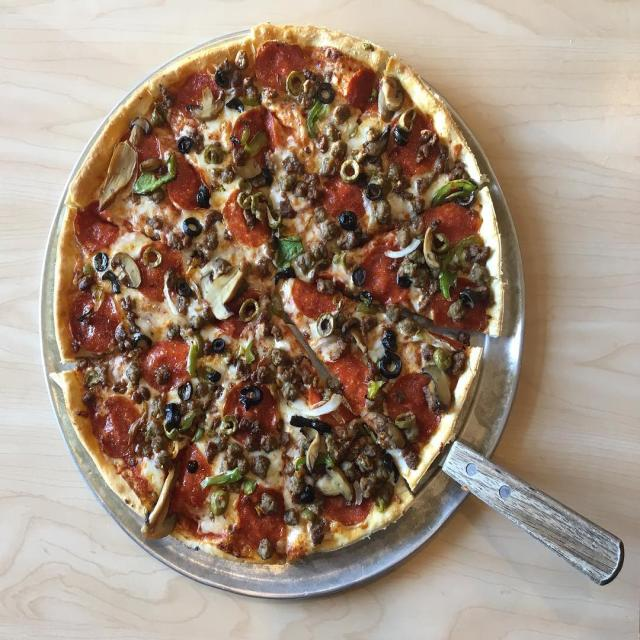black_olives: (456, 284, 480, 317), (316, 78, 342, 106), (174, 376, 201, 402), (376, 349, 403, 375), (396, 268, 416, 300), (183, 213, 204, 243), (291, 479, 316, 503), (361, 179, 386, 202), (353, 262, 374, 289), (394, 120, 415, 146), (165, 397, 181, 430), (194, 184, 216, 208), (214, 67, 233, 94), (383, 326, 402, 353), (240, 384, 262, 407), (132, 332, 154, 355), (173, 276, 192, 300), (335, 212, 359, 229), (211, 336, 228, 357), (178, 135, 193, 157), (278, 264, 294, 282)
mushrooms: (94, 136, 137, 217), (200, 260, 250, 324), (141, 468, 183, 542), (418, 358, 457, 412), (184, 81, 232, 123), (368, 407, 406, 456), (318, 459, 354, 508), (102, 246, 139, 291), (370, 72, 406, 116), (294, 418, 326, 466), (234, 129, 260, 183), (340, 315, 371, 358), (419, 222, 445, 266), (122, 113, 152, 151), (364, 126, 395, 156)
pepperoni: (380, 370, 440, 443), (162, 436, 216, 516), (227, 478, 284, 553), (352, 238, 412, 306), (307, 351, 363, 423), (221, 380, 279, 449), (314, 462, 374, 527), (136, 233, 187, 306), (67, 290, 124, 355), (389, 105, 438, 177), (431, 278, 488, 337), (140, 338, 195, 399), (72, 202, 128, 257), (223, 188, 277, 244), (98, 393, 148, 453), (295, 265, 345, 324), (252, 38, 306, 90), (235, 106, 286, 158), (432, 188, 478, 245), (309, 178, 368, 220), (178, 72, 229, 116), (166, 158, 205, 210), (343, 66, 382, 110)
pizza: (65, 25, 497, 559)
